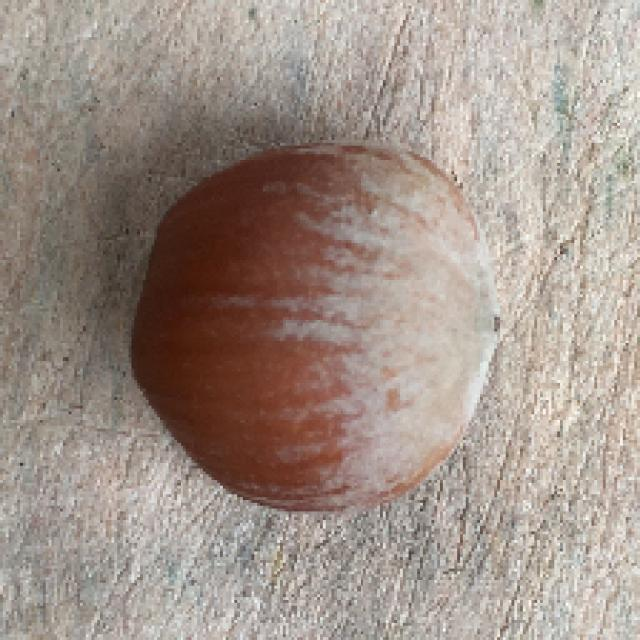qualityHazelnut: (129, 131, 505, 512)
